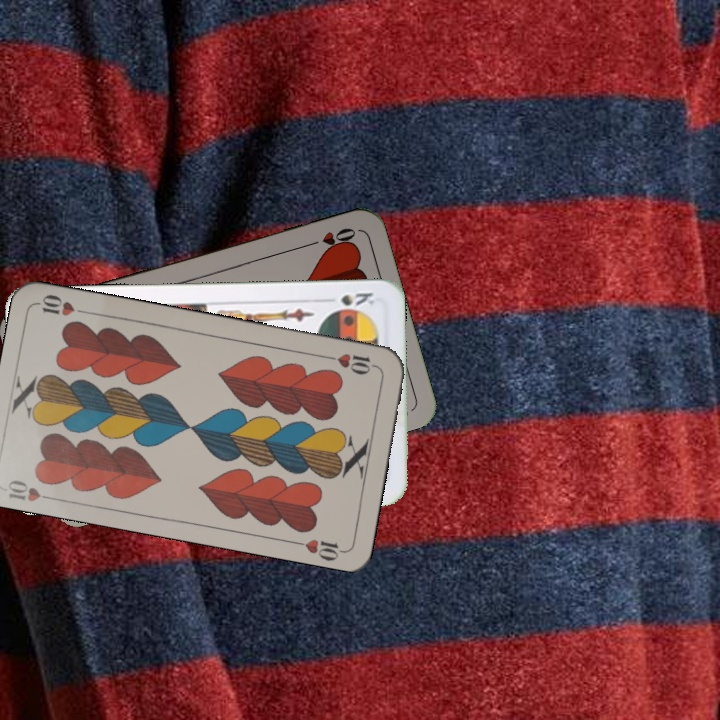H10: (321, 349, 380, 377), (4, 475, 60, 504)
HO: (301, 223, 359, 253)
SK: (330, 288, 379, 313)
